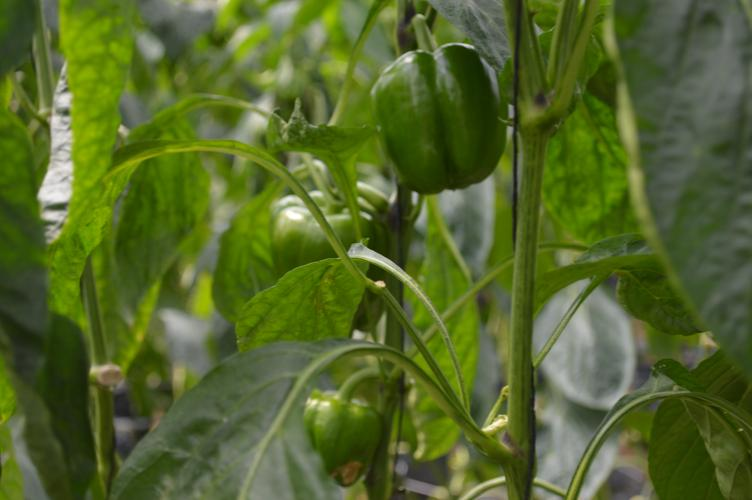BellPepper: (378, 46, 507, 194), (269, 194, 373, 295), (305, 394, 379, 482)
